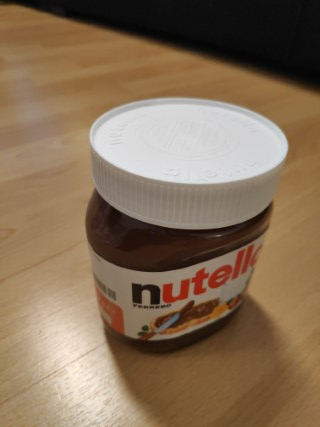nutella: (83, 95, 290, 355)
